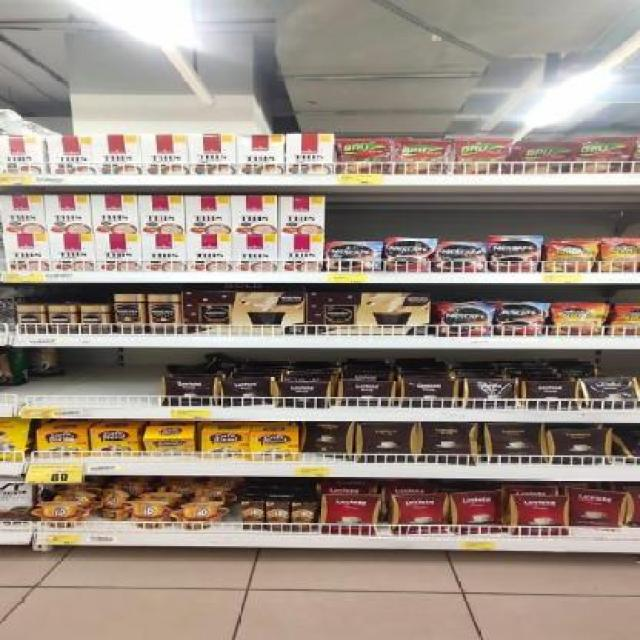Coffee: (490, 238, 539, 272), (434, 242, 489, 272), (386, 238, 434, 272), (438, 306, 492, 336), (547, 240, 596, 272), (325, 242, 381, 270), (496, 303, 544, 335), (552, 303, 600, 335), (600, 239, 640, 272), (113, 295, 145, 333), (147, 296, 180, 332), (18, 306, 44, 332), (50, 306, 76, 332), (85, 306, 109, 332)
